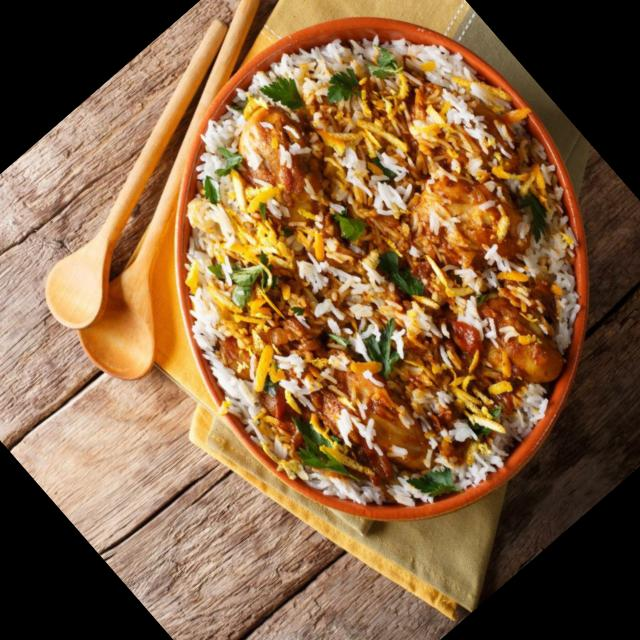Biryani: (65, 0, 640, 586)
